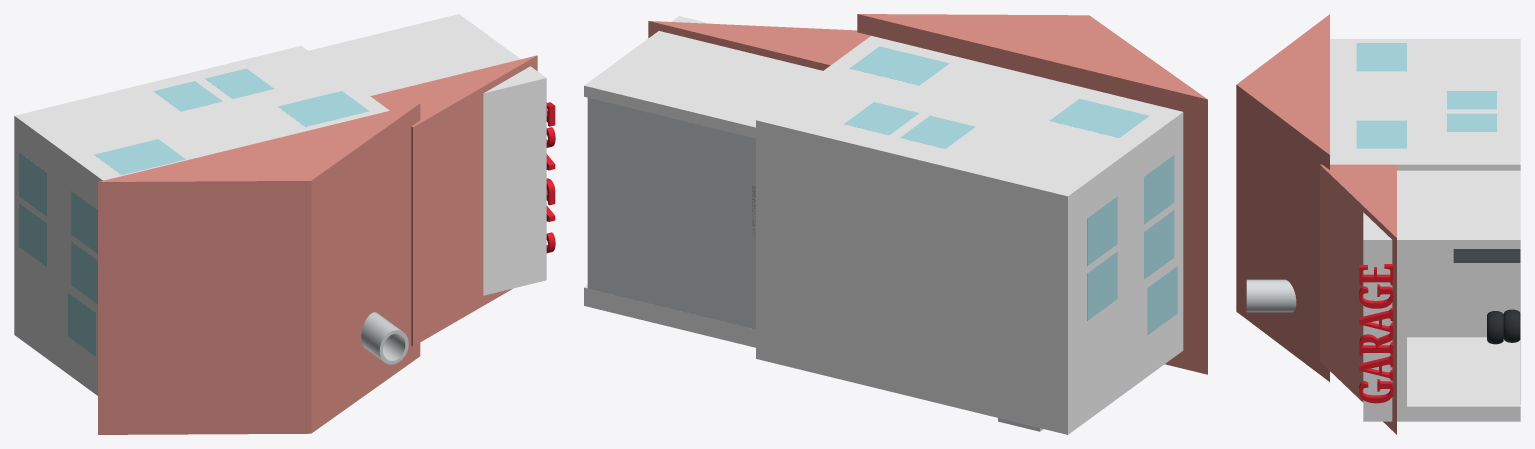
File: tinker.obj
3 views of the same model, side by side, from view 1: azimuth 30°, elevation 25°; view 2: azimuth 150°, elevation 25°; view 3: azimuth 270°, elevation 25° (orthographic). The views are drawn at different scales.
Parts seen in each view (by area): view 1: obj_3, obj_0, obj_17, obj_4, obj_6, obj_11, obj_22, obj_7, obj_8, obj_15, obj_9, obj_10 (+3 smaller); view 2: obj_0, obj_23, obj_3, obj_17, obj_4, obj_11, obj_6, obj_9, obj_7, obj_8, obj_10, obj_15 (+2 smaller); view 3: obj_0, obj_17, obj_3, obj_4, obj_16, obj_22, obj_6, obj_11, obj_20, obj_12, obj_14, obj_18 (+1 smaller).
Boxes of the visible parts, <box> form: obj_3: <box>98,103,420,434</box>; obj_0: <box>14,46,389,395</box>; obj_17: <box>308,14,546,295</box>; obj_4: <box>370,55,537,346</box>; obj_6: <box>278,91,369,126</box>; obj_11: <box>94,139,185,174</box>; obj_22: <box>361,312,408,364</box>; obj_7: <box>19,152,46,216</box>; obj_8: <box>68,293,95,356</box>; obj_15: <box>19,203,46,266</box>; obj_9: <box>71,241,97,304</box>; obj_10: <box>71,191,97,253</box>; obj_0: <box>756,36,1183,434</box>; obj_23: <box>587,97,755,329</box>; obj_3: <box>857,14,1207,374</box>; obj_17: <box>584,16,822,347</box>; obj_4: <box>648,21,870,70</box>; obj_11: <box>1049,98,1149,137</box>; obj_6: <box>849,46,949,85</box>; obj_9: <box>1144,210,1174,279</box>; obj_7: <box>1087,196,1117,265</box>; obj_8: <box>1147,266,1177,335</box>; obj_10: <box>1144,155,1174,224</box>; obj_15: <box>1087,251,1117,320</box>; obj_0: <box>1330,39,1520,337</box>; obj_17: <box>1363,170,1520,421</box>; obj_3: <box>1236,14,1329,381</box>; obj_4: <box>1320,164,1396,434</box>; obj_16: <box>1359,264,1393,403</box>; obj_22: <box>1246,279,1296,312</box>; obj_6: <box>1356,120,1406,148</box>; obj_11: <box>1356,43,1406,71</box>; obj_20: <box>1453,249,1520,262</box>; obj_12: <box>1447,91,1496,109</box>; obj_14: <box>1447,113,1496,131</box>; obj_18: <box>1503,309,1520,342</box>.
Bounding box in the file's own units: 148 × 75 × 85.
